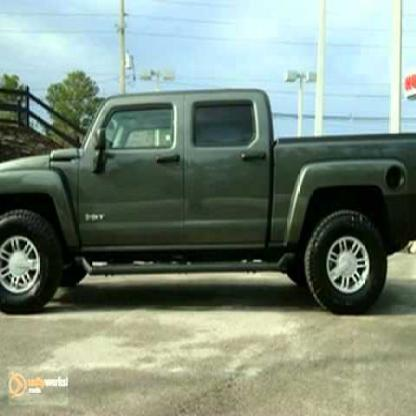Vehicle: (1, 89, 415, 319)
